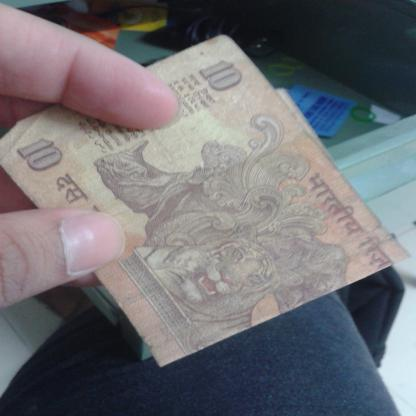Old10Back: (1, 33, 412, 369)
